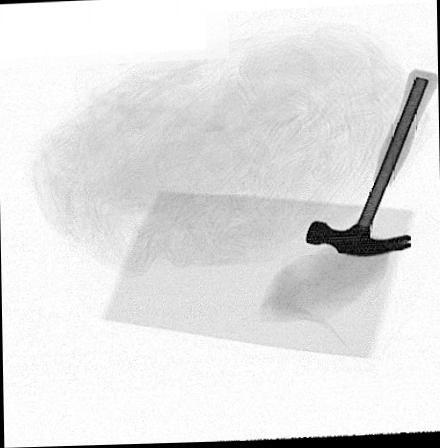Hammer: (305, 71, 437, 260)
